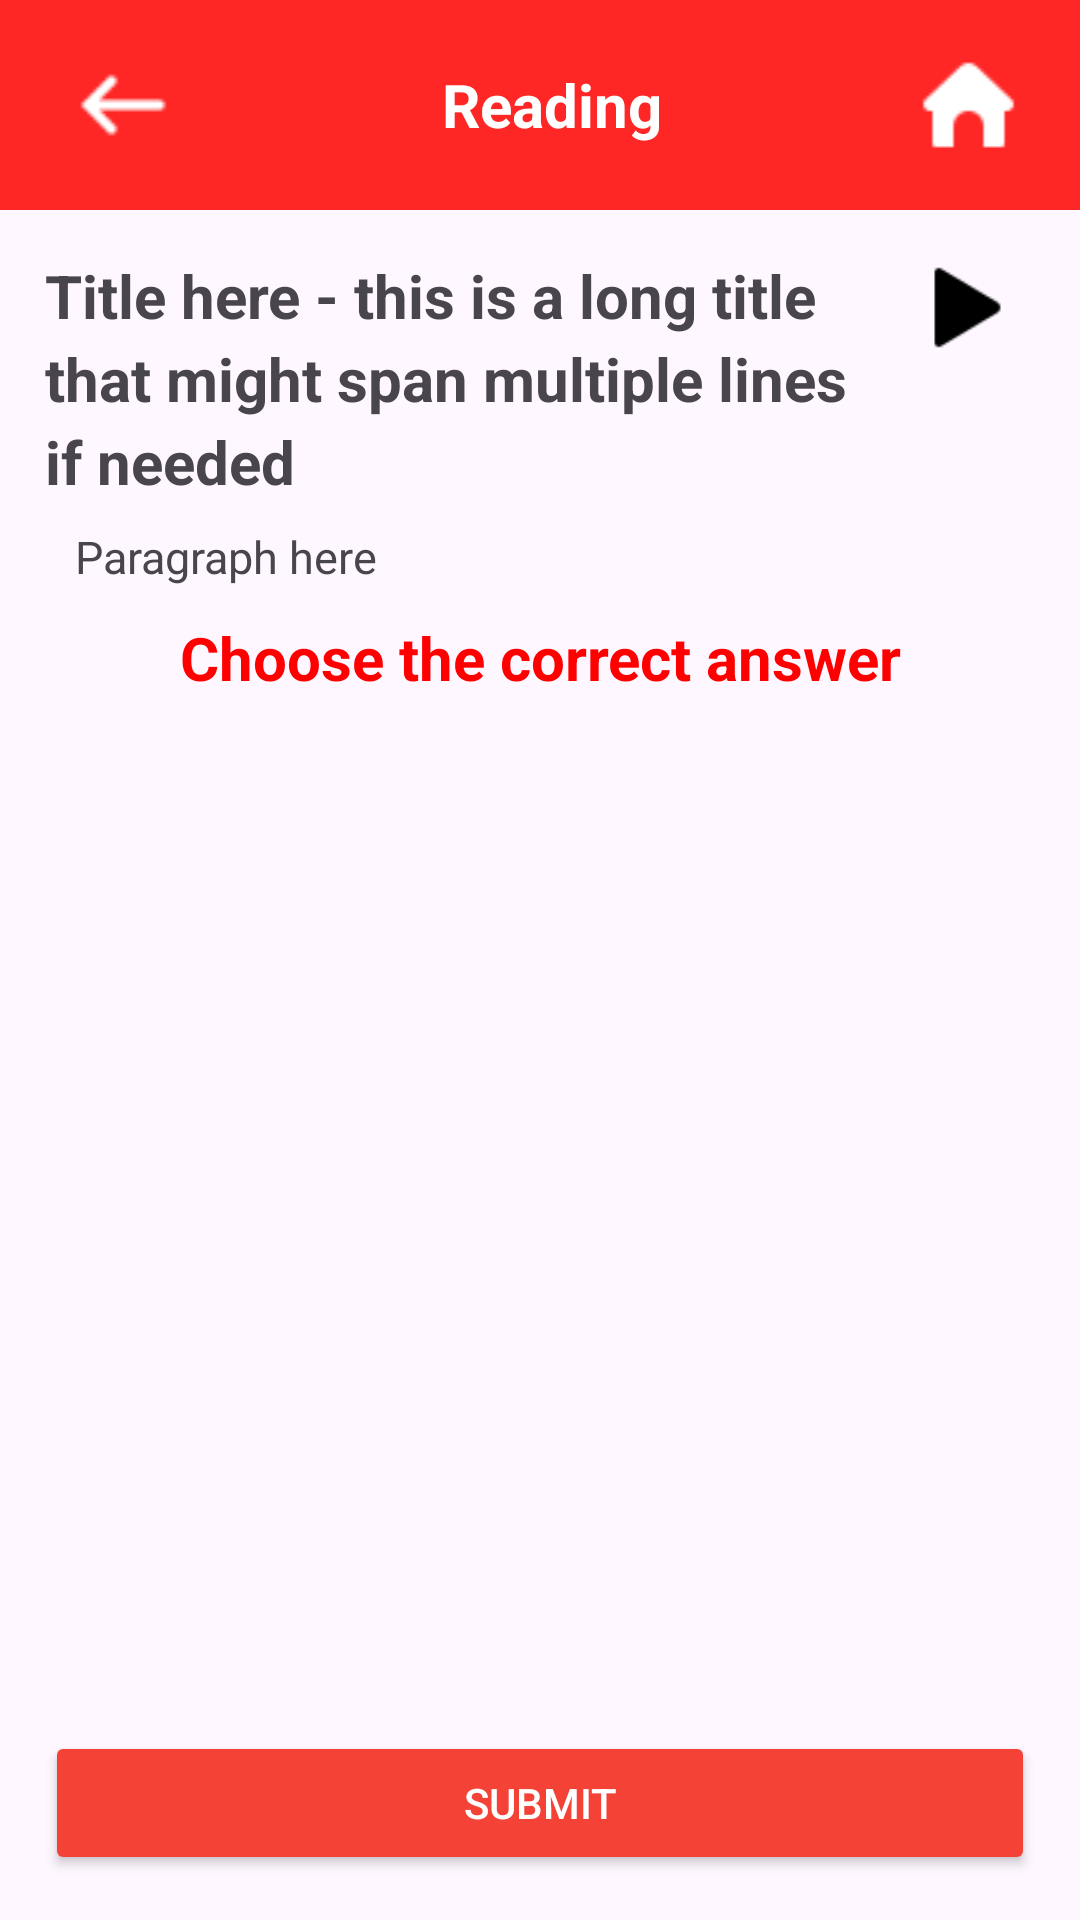

Icon bounding boxes for this 1080×1920 phone screenshot, format (x1, y1, x2, y2):
backward: (81, 74, 166, 136)
home: (922, 62, 1015, 148)
Play: (934, 267, 1001, 348)
